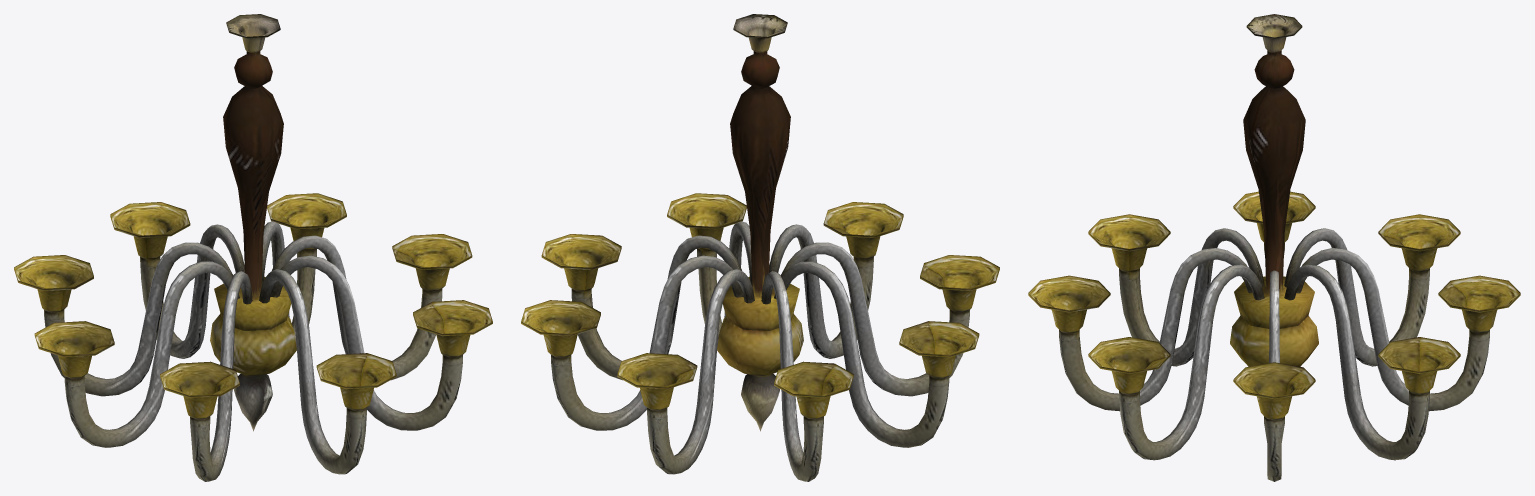
The model's file is lustre.fbx.
3 views of the same model, side by side, from view 1: azimuth 30°, elevation 25°; view 2: azimuth 150°, elevation 25°; view 3: azimuth 270°, elevation 25° (orthographic).
Visible parts, largest first — view 1: polySurface1525; view 2: polySurface1525; view 3: polySurface1525.
Part boxes in pixels (x1,y1,x2,y2): polySurface1525: (14,14,492,481); polySurface1525: (521,14,999,481); polySurface1525: (1028,14,1520,481).
Bounding box in the file's own units: 319 × 289 × 319.
